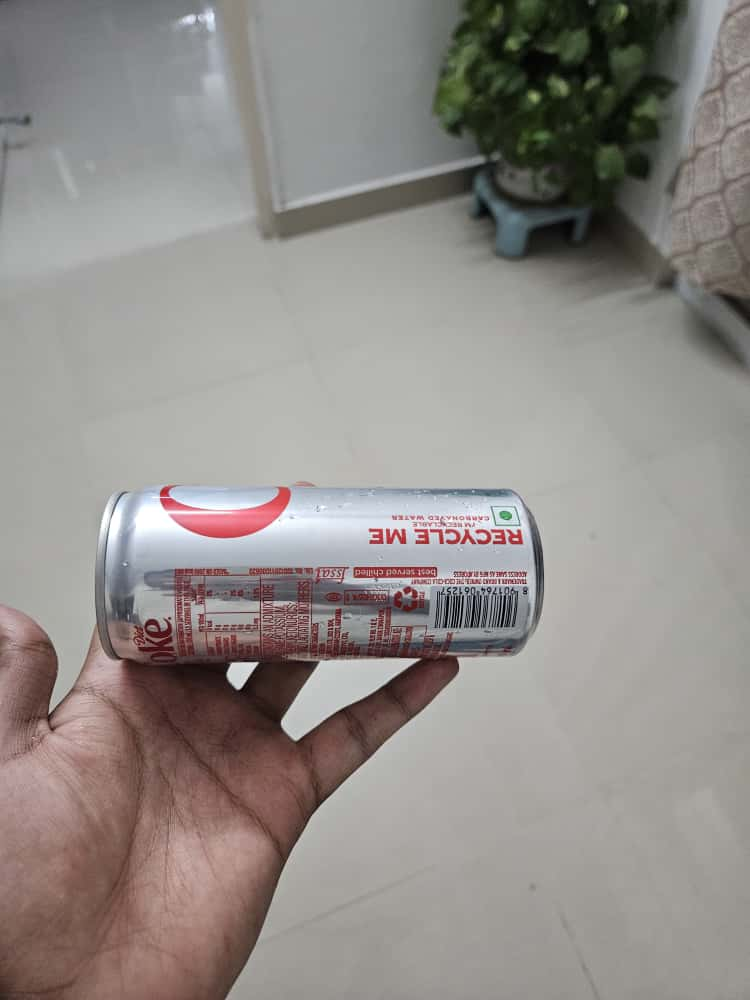dry: (55, 486, 584, 668)
